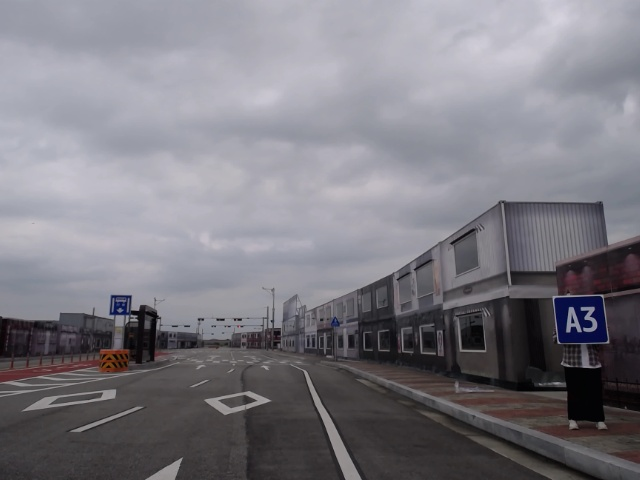delivery_a3: (553, 295, 609, 344)
